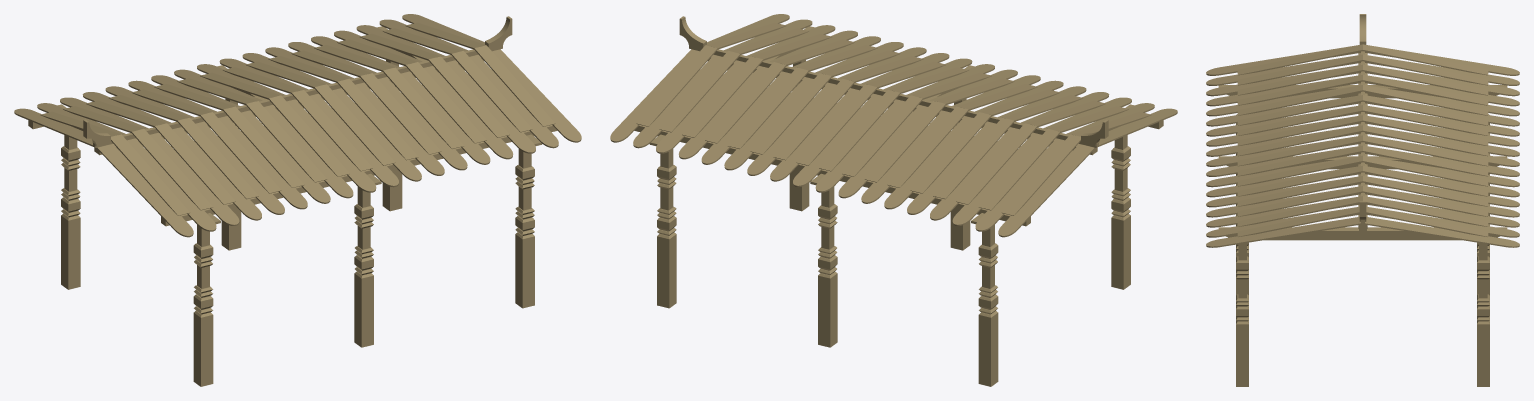
Rendered from sunshade.FBX.
3 views of the same model, side by side, from view 1: azimuth 30°, elevation 25°; view 2: azimuth 150°, elevation 25°; view 3: azimuth 270°, elevation 25° (orthographic). The views are drawn at different scales.
Parts seen in each view (by area): view 1: column014, column017, column011, column013, large roof lath037, large roof lath053, small roof lath047, small roof lath044, small roof lath045, small roof lath052, small roof lath039, small roof lath041 (+67 smaller); view 2: column013, column016, column010, column014, large roof lath054, large roof lath071, small roof lath065, small roof lath070, small roof lath057, small roof lath062, small roof lath063, small roof lath059 (+66 smaller); view 3: Rectangle022, column010, column011, large roof lath071, large roof lath053, small roof lath067, small roof lath049, small roof lath069, small roof lath051, small roof lath058, small roof lath040, small roof lath060 (+66 smaller).
Boxes of the visible parts, x1,y1,x2,y2 form: column014: (193, 225, 213, 386); column017: (354, 187, 373, 347); column011: (515, 149, 534, 308); column013: (61, 135, 80, 289); large roof lath037: (96, 144, 193, 237); large roof lath053: (492, 49, 581, 142); small roof lath047: (337, 78, 418, 160); small roof lath044: (269, 95, 349, 176); small roof lath045: (291, 90, 372, 171); small roof lath052: (451, 51, 532, 132); small roof lath039: (155, 123, 235, 204); small roof lath041: (200, 112, 281, 193); column013: (978, 225, 998, 386); column016: (818, 187, 837, 347); column010: (657, 149, 676, 308); column014: (1111, 135, 1130, 289); large roof lath054: (998, 144, 1095, 237); large roof lath071: (610, 49, 699, 142); small roof lath065: (773, 78, 854, 160); small roof lath070: (659, 51, 740, 132); small roof lath057: (956, 123, 1037, 204); small roof lath062: (842, 95, 922, 176); small roof lath063: (819, 90, 900, 171); small roof lath059: (910, 112, 991, 193); Rectangle022: (1218, 227, 1507, 240); column010: (1477, 249, 1489, 386); column011: (1236, 249, 1248, 386); large roof lath071: (1363, 217, 1519, 247); large roof lath053: (1206, 217, 1362, 247); small roof lath067: (1363, 165, 1488, 196); small roof lath049: (1237, 165, 1362, 196); small roof lath069: (1363, 186, 1488, 216); small roof lath051: (1237, 186, 1362, 216); small roof lath058: (1363, 74, 1488, 105); small roof lath040: (1237, 74, 1362, 105); small roof lath060: (1363, 95, 1488, 125).
Size of the model in its own units: 5557 by 2815 by 3910.
